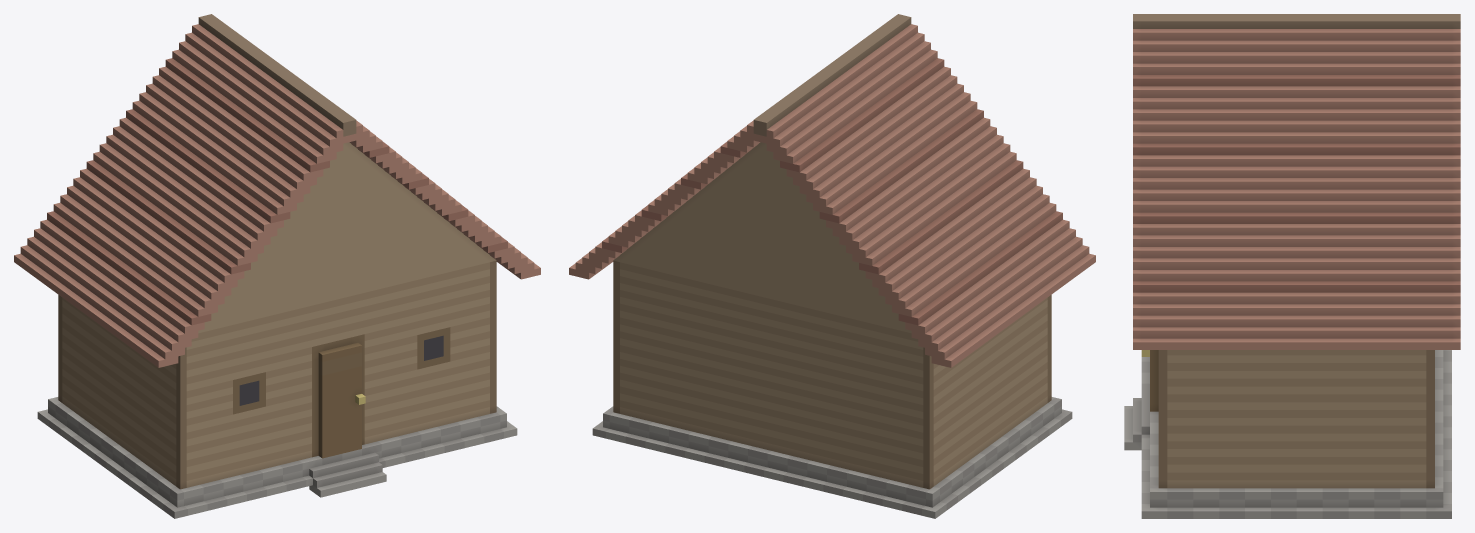
File: maison_grange.glb
The picture shows the model from 3 angles, left to right: view 1: azimuth 30°, elevation 25°; view 2: azimuth 150°, elevation 25°; view 3: azimuth 270°, elevation 25°; orthographic projection. The views are drawn at different scales.
Parts seen in each view (by area): view 1: geometry_0; view 2: geometry_0; view 3: geometry_0.
Boxes of the visible parts, x1,y1,x2,y2 form: geometry_0: [14, 14, 540, 518]; geometry_0: [569, 14, 1095, 518]; geometry_0: [1124, 14, 1460, 518].
Bounding box in the file's own units: 7.25 × 6.62 × 4.88.
